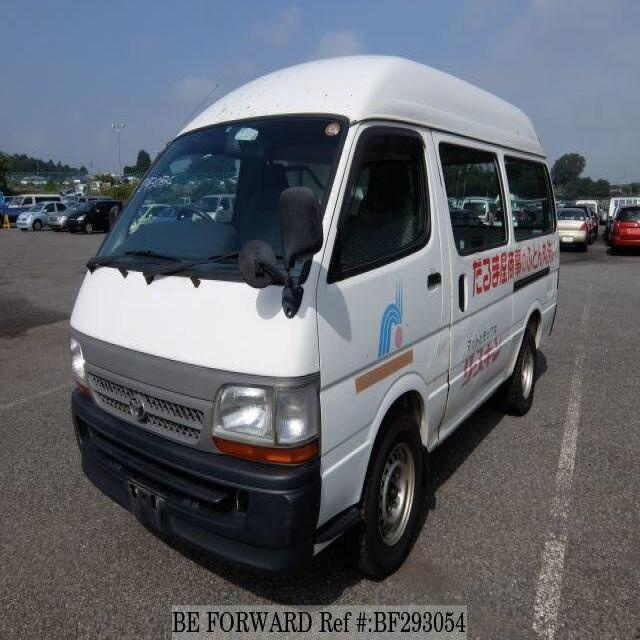Van: (59, 57, 561, 568)
